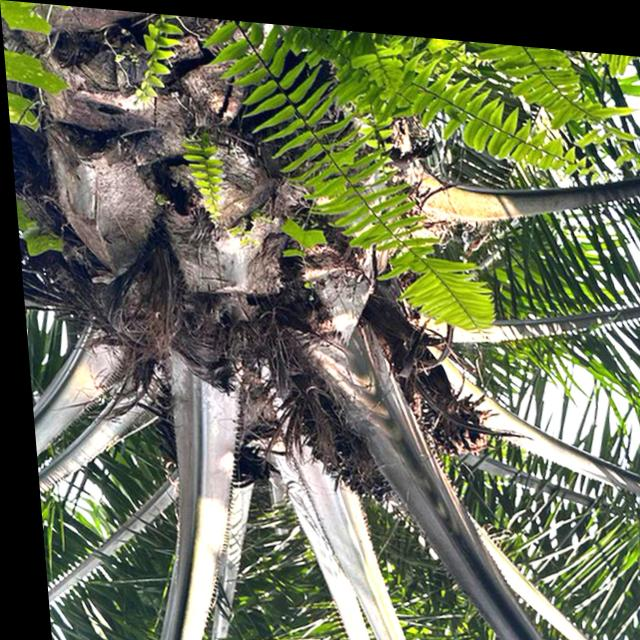almost: (283, 365, 392, 505)
